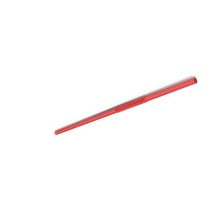drinking_straw: (48, 72, 202, 140)
